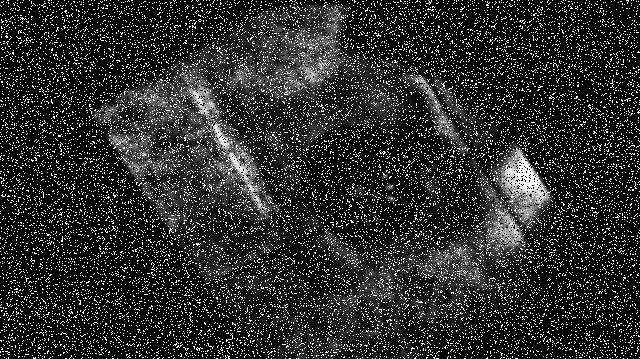pot: (301, 123, 421, 242)
